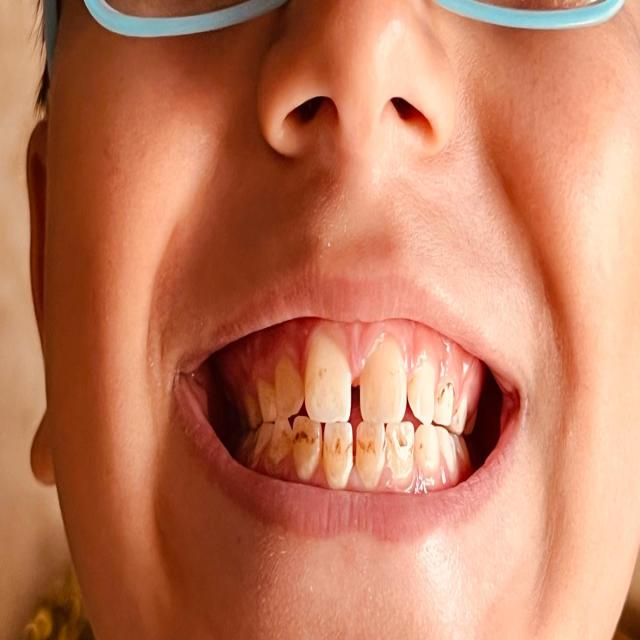tooth: (298, 339, 352, 421), (358, 343, 406, 417), (324, 420, 354, 487), (288, 411, 318, 473), (272, 364, 304, 414), (412, 352, 434, 420), (358, 426, 382, 484), (418, 420, 443, 474), (254, 382, 280, 428), (440, 374, 452, 431)
